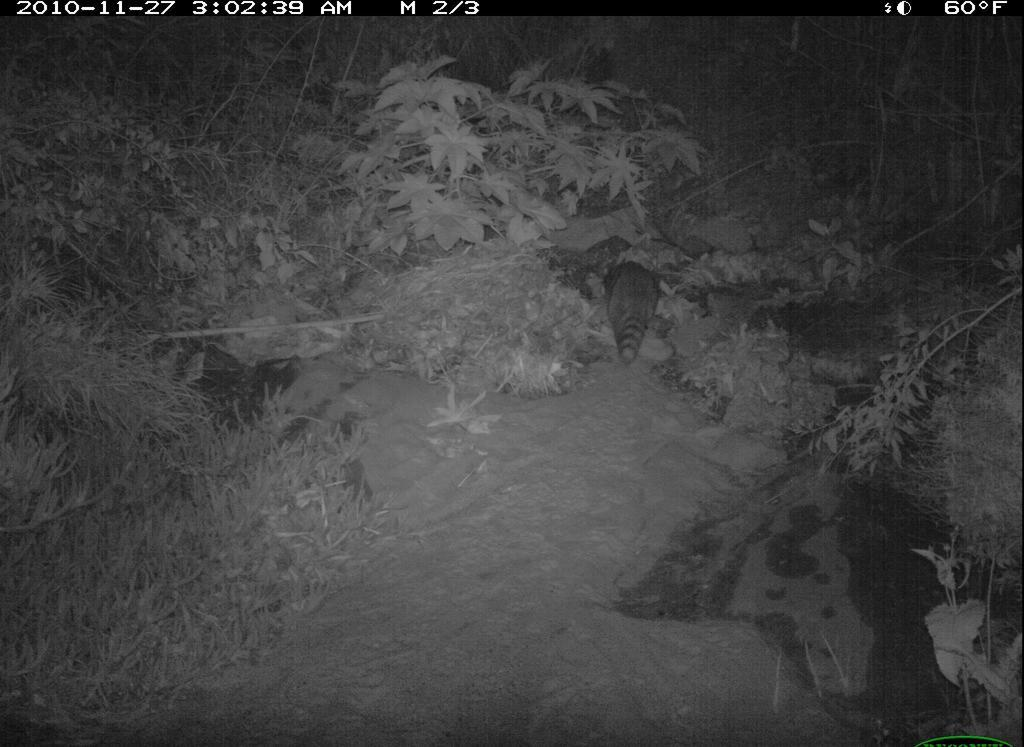raccoon: (594, 249, 678, 376)
